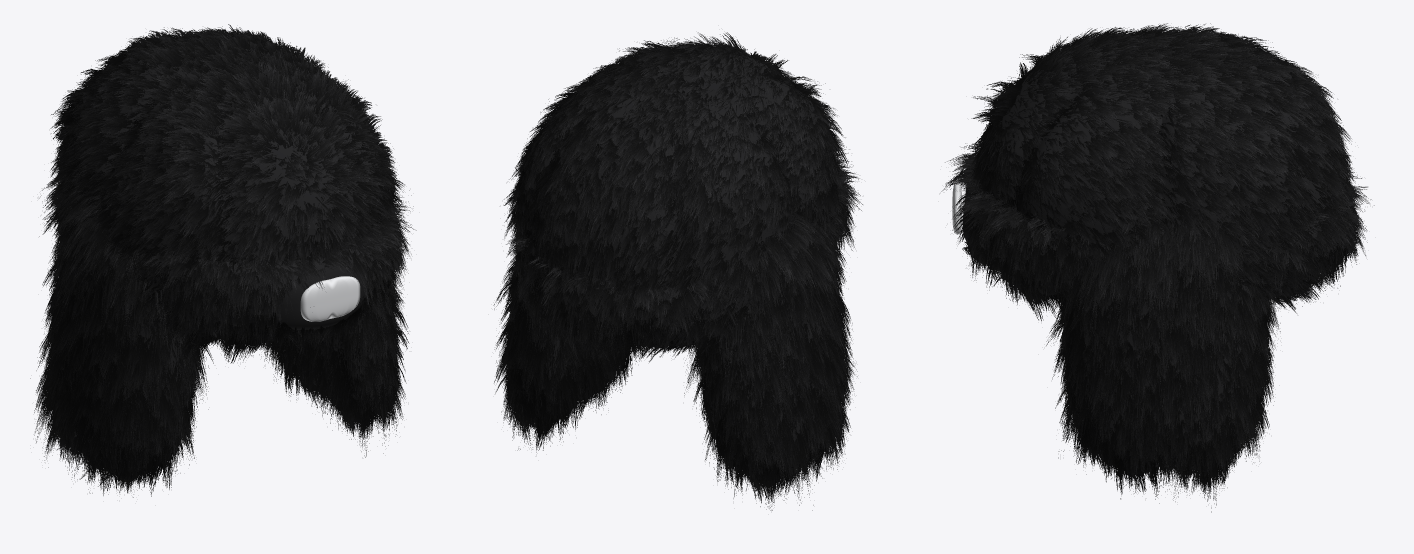
The model's file is ushanka.glb.
The picture shows the model from 3 angles, left to right: view 1: azimuth 30°, elevation 25°; view 2: azimuth 150°, elevation 25°; view 3: azimuth 270°, elevation 25°; orthographic projection. The views are drawn at different scales.
Visible parts, largest first — view 1: fur_guard_crown, fur_mid_crown, fur_guard_flapL, fur_base_crown, fur_mid_flapL, fur_guard_brim, fur_guard_flapR, fur_mid_brim, fur_under_crown, fur_mid_flapR, fur_base_brim, fur_base_flapL (+4 smaller); view 2: fur_guard_crown, fur_mid_crown, fur_guard_flapL, fur_base_crown, fur_mid_flapL, fur_guard_flapR, fur_guard_back, fur_under_crown, fur_mid_back, fur_mid_flapR, fur_base_flapL, fur_under_flapL (+5 smaller); view 3: fur_guard_crown, fur_guard_flapR, fur_mid_crown, fur_mid_flapR, fur_base_crown, fur_guard_brim, fur_under_crown, fur_base_flapR, fur_mid_brim, fur_under_flapR, fur_guard_back, fur_mid_back (+1 smaller).
Part boxes in pixels (bbox=[...]): fur_guard_crown: bbox=[43, 24, 409, 363]; fur_mid_crown: bbox=[54, 30, 398, 355]; fur_guard_flapL: bbox=[30, 173, 213, 497]; fur_base_crown: bbox=[65, 37, 388, 339]; fur_mid_flapL: bbox=[46, 183, 200, 487]; fur_guard_brim: bbox=[110, 194, 416, 356]; fur_guard_flapR: bbox=[261, 131, 409, 457]; fur_mid_brim: bbox=[134, 210, 404, 343]; fur_under_crown: bbox=[60, 34, 386, 343]; fur_mid_flapR: bbox=[264, 283, 400, 426]; fur_base_brim: bbox=[151, 222, 388, 330]; fur_base_flapL: bbox=[59, 216, 192, 463]; fur_guard_crown: bbox=[504, 32, 849, 362]; fur_mid_crown: bbox=[509, 42, 842, 352]; fur_guard_flapL: bbox=[684, 197, 857, 510]; fur_base_crown: bbox=[522, 51, 829, 346]; fur_mid_flapL: bbox=[696, 220, 850, 498]; fur_guard_flapR: bbox=[493, 191, 642, 452]; fur_guard_back: bbox=[506, 236, 744, 364]; fur_under_crown: bbox=[516, 48, 836, 350]; fur_mid_back: bbox=[511, 240, 737, 350]; fur_mid_flapR: bbox=[504, 262, 636, 438]; fur_base_flapL: bbox=[705, 236, 832, 468]; fur_under_flapL: bbox=[702, 226, 842, 479]; fur_guard_crown: bbox=[968, 23, 1359, 324]; fur_guard_flapR: bbox=[1046, 202, 1280, 512]; fur_mid_crown: bbox=[973, 26, 1346, 309]; fur_mid_flapR: bbox=[1062, 210, 1273, 486]; fur_base_crown: bbox=[984, 38, 1337, 297]; fur_guard_brim: bbox=[941, 137, 1090, 307]; fur_under_crown: bbox=[982, 29, 1341, 299]; fur_base_flapR: bbox=[1070, 227, 1262, 466]; fur_mid_brim: bbox=[961, 153, 1110, 291]; fur_under_flapR: bbox=[1063, 221, 1265, 472]; fur_guard_back: bbox=[1257, 155, 1374, 306]; fur_mid_back: bbox=[1250, 170, 1361, 283].
Bounding box in the file's own units: 0.2345 × 0.2824 × 0.2725.
5 materials, 3 textured.
